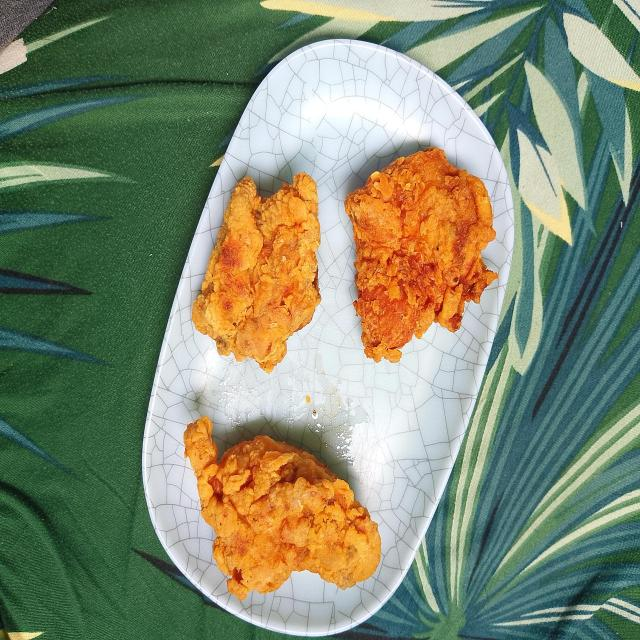Chicken -Fried Chicken-: (174, 398, 381, 640), (168, 154, 338, 379), (347, 148, 493, 390)
